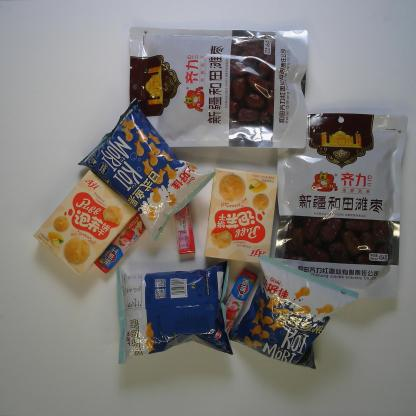Candy: (92, 210, 147, 275), (218, 266, 258, 334), (172, 200, 197, 257)
Dessert: (34, 167, 140, 277), (203, 167, 280, 266)
Dried Food: (273, 110, 408, 302), (127, 26, 310, 154)
Puffed Food: (79, 95, 216, 244), (230, 254, 360, 371), (115, 260, 233, 364)
